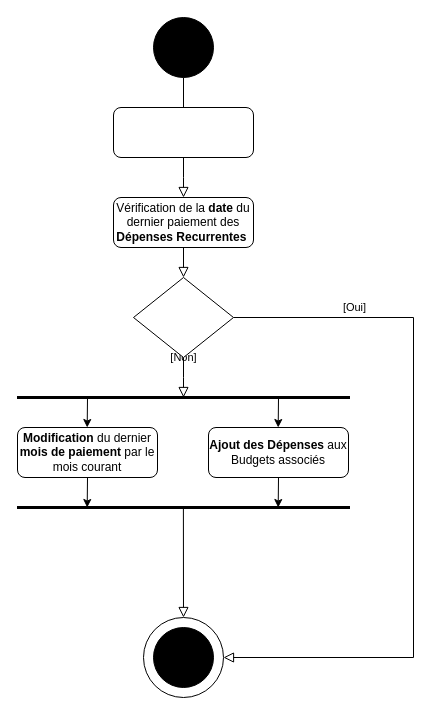
This 441x715 diagram has some shape labels left out. Here are the shapes that lost their labels. From the top down, the centre of each, then its label:
pixel 183 132: Récupération les Dépenses Récurrentes enregistrées
pixel 183 317: Paiement encaissé ce mois-ci ?
